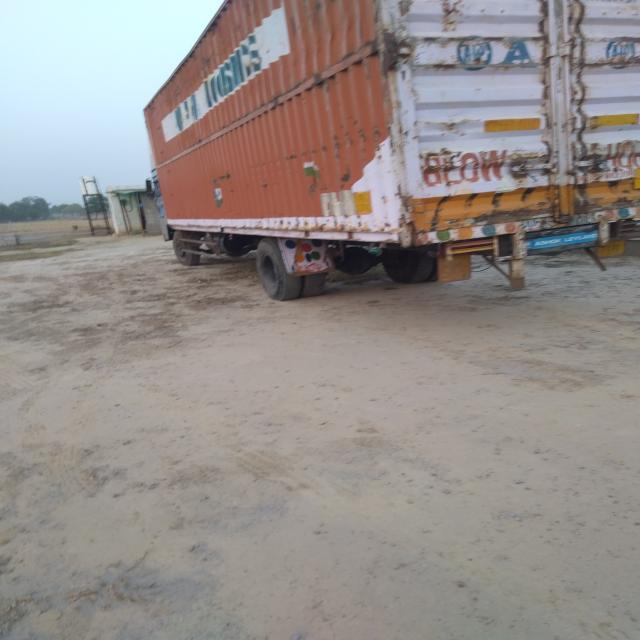Truck: (124, 0, 630, 301)
